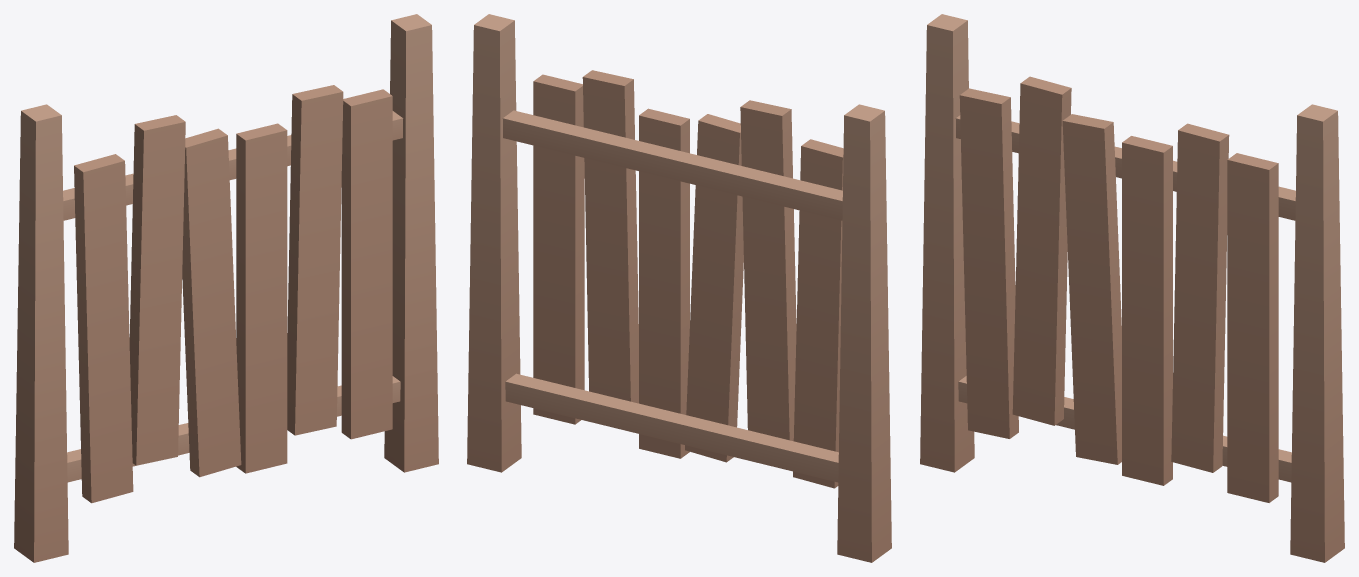
The model's file is fence-fortified.glb.
3 renders of one model, left to right at view 1: azimuth 30°, elevation 25°; view 2: azimuth 150°, elevation 25°; view 3: azimuth 330°, elevation 25°, orthographic.
Visible parts, largest first — view 1: fence-fortified; view 2: fence-fortified; view 3: fence-fortified.
Boxes of the visible parts, x1,y1,x2,y2 form: fence-fortified: (14,14,438,562); fence-fortified: (467,14,891,562); fence-fortified: (920,14,1344,562).
Bounding box in the file's own units: 0.5 × 0.5175 × 0.053.
